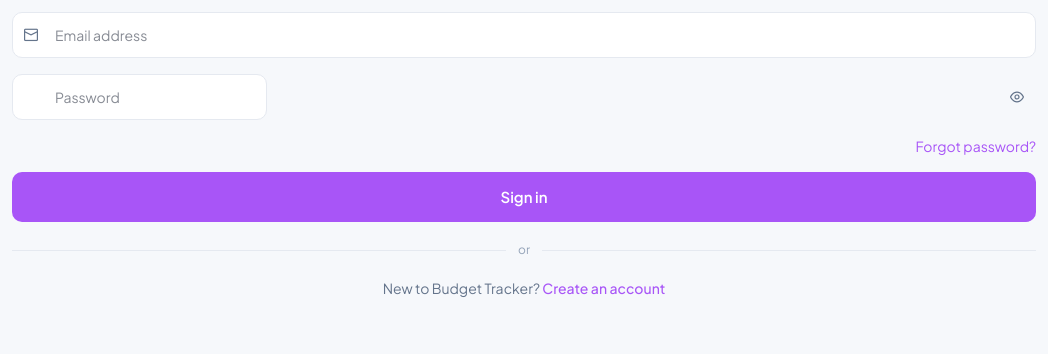
Test: LoginForm › shows validation errors on empty submit
Click the button "Sign in" at (524, 197), box [12,172,1036,222]
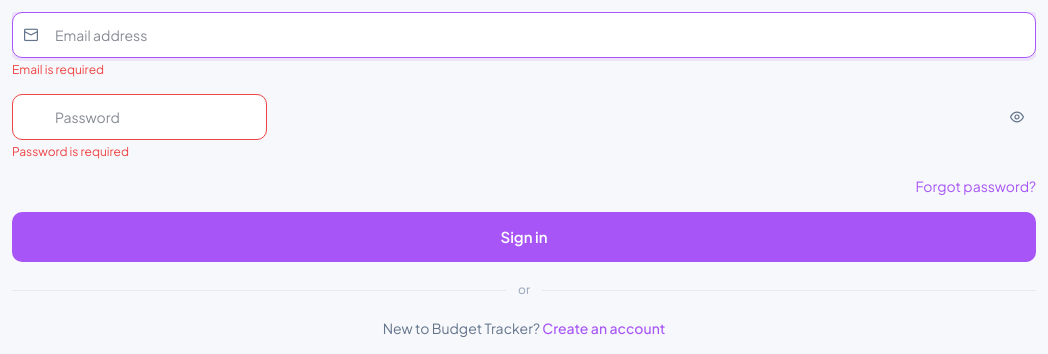
Now the text "Email is required" is shown, box [12,62,104,77]
